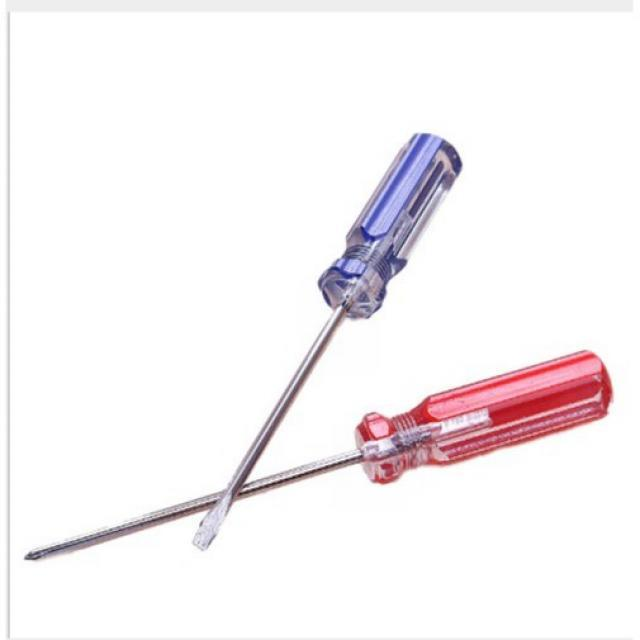screwdriver: (18, 347, 616, 564), (188, 131, 467, 556)
